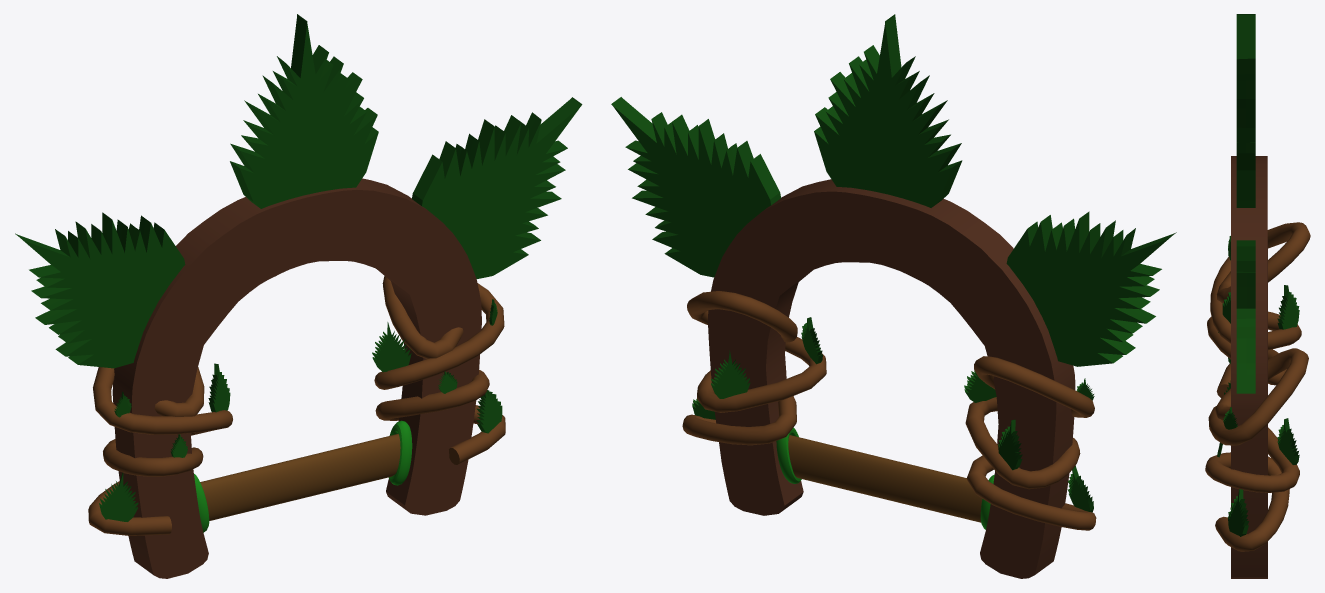
The model's file is Planta.fbx.
3 views of the same model, side by side, from view 1: azimuth 30°, elevation 25°; view 2: azimuth 150°, elevation 25°; view 3: azimuth 270°, elevation 25° (orthographic). The views are drawn at different scales.
Parts seen in each view (by area): view 1: BezierCurve, Cube.003, Cube.004, Cube.005, BezierCurve.002, Cylinder, BezierCurve.001, Cube.006, Cube.013, Torus.001, Cube.011, Cube.008; view 2: BezierCurve, Cube.003, Cube.004, Cube.005, BezierCurve.001, BezierCurve.002, Cylinder, Cube.012, Cube.007, Cube.006; view 3: BezierCurve, BezierCurve.002, BezierCurve.001, Cube.003, Cube.005, Cube.011, Cube.007, Cube.012, Cube.015, Cube.008.
Part boxes in pixels (x1=…): BezierCurve: x1=112, y1=178, x2=481, y2=578; Cube.003: x1=230, y1=14, x2=378, y2=208; Cube.004: x1=15, y1=212, x2=185, y2=368; Cube.005: x1=412, y1=97, x2=582, y2=278; BezierCurve.002: x1=374, y1=276, x2=505, y2=464; Cylinder: x1=200, y1=433, x2=400, y2=520; BezierCurve.001: x1=88, y1=367, x2=232, y2=535; Cube.006: x1=99, y1=472, x2=138, y2=521; Cube.013: x1=372, y1=322, x2=411, y2=372; Torus.001: x1=388, y1=420, x2=412, y2=485; Cube.011: x1=476, y1=390, x2=502, y2=433; Cube.008: x1=208, y1=363, x2=230, y2=412; BezierCurve: x1=708, y1=179, x2=1075, y2=578; Cube.003: x1=814, y1=14, x2=962, y2=207; Cube.004: x1=1006, y1=211, x2=1176, y2=366; Cube.005: x1=611, y1=97, x2=780, y2=277; BezierCurve.001: x1=965, y1=356, x2=1096, y2=530; BezierCurve.002: x1=682, y1=291, x2=826, y2=445; Cylinder: x1=788, y1=435, x2=982, y2=522; Cube.012: x1=711, y1=350, x2=750, y2=398; Cube.007: x1=998, y1=419, x2=1022, y2=470; Cube.006: x1=1067, y1=466, x2=1093, y2=512; BezierCurve: x1=1231, y1=156, x2=1267, y2=578; BezierCurve.002: x1=1205, y1=348, x2=1308, y2=551; BezierCurve.001: x1=1207, y1=222, x2=1310, y2=397; Cube.003: x1=1236, y1=14, x2=1255, y2=207; Cube.005: x1=1236, y1=240, x2=1255, y2=393; Cube.011: x1=1228, y1=489, x2=1248, y2=536; Cube.007: x1=1277, y1=285, x2=1299, y2=329; Cube.012: x1=1277, y1=418, x2=1299, y2=464; Cube.015: x1=1223, y1=407, x2=1237, y2=429; Cube.008: x1=1222, y1=292, x2=1230, y2=323.
Size of the model in its own units: 2912 by 2595 by 496.
